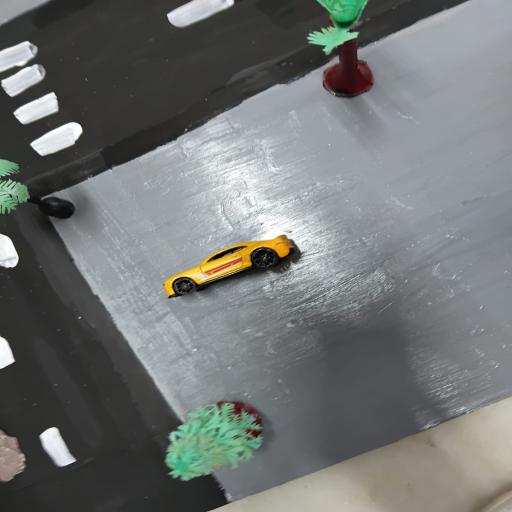car crash: (163, 232, 307, 300)
